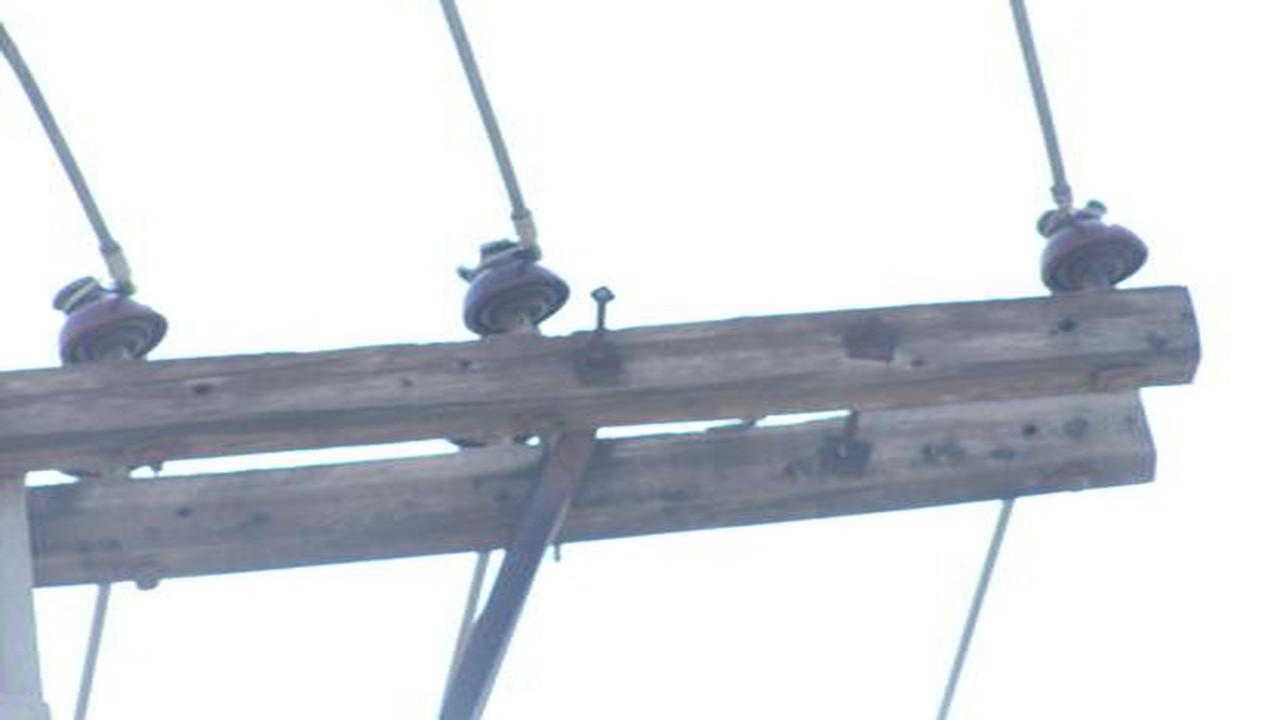insulator_pin: (1020, 194, 1157, 300), (47, 269, 176, 375), (452, 229, 576, 338)
